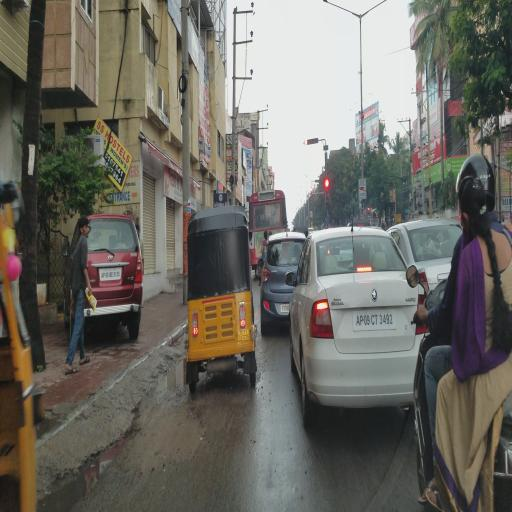street_light_0: (317, 0, 360, 26)
